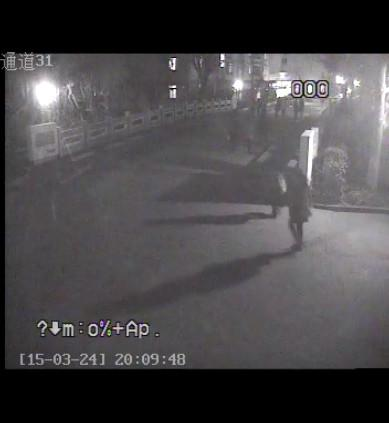person: (286, 159, 311, 255), (265, 162, 290, 217), (256, 108, 272, 147), (225, 113, 241, 151), (242, 113, 255, 159), (274, 99, 286, 117), (291, 100, 300, 123)
